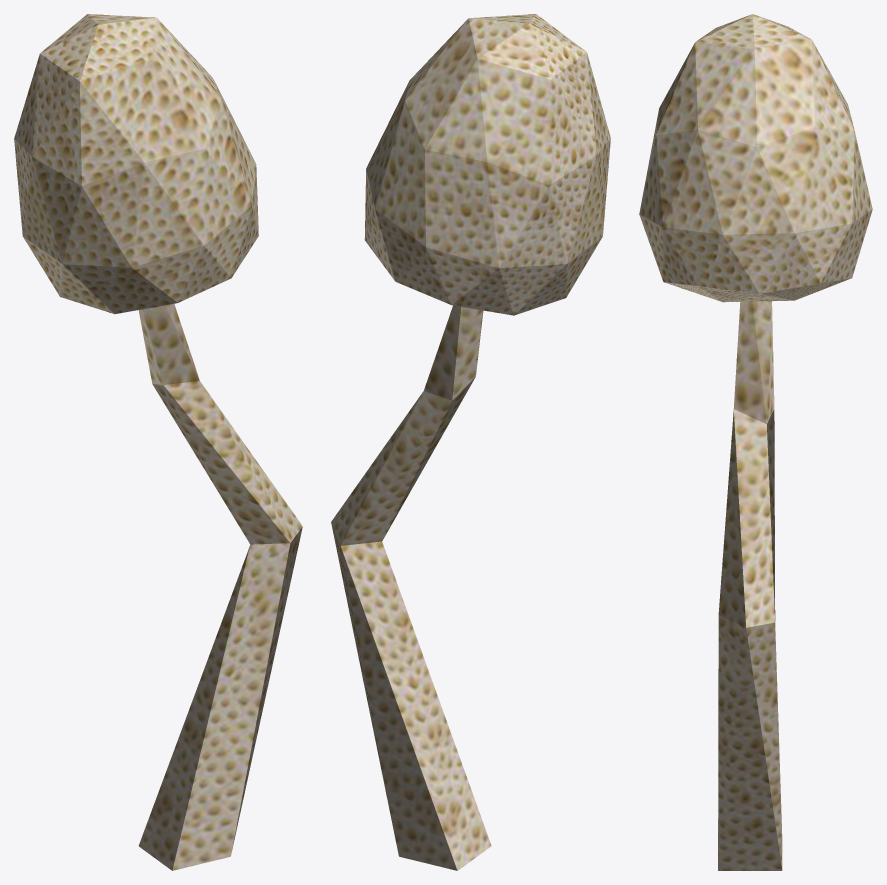
File: fungo_6.fbx
3 renders of one model, left to right at view 1: azimuth 30°, elevation 25°; view 2: azimuth 150°, elevation 25°; view 3: azimuth 270°, elevation 25°, orthographic. The views are drawn at different scales.
Visible parts, largest first — view 1: fungo_6; view 2: fungo_6; view 3: fungo_6.
Part boxes in pixels (x1,y1,x2,y2): fungo_6: [14, 14, 302, 870]; fungo_6: [331, 14, 610, 870]; fungo_6: [639, 14, 872, 870].
Bounding box in the file's own units: 8.31 × 25.1 × 6.61.
